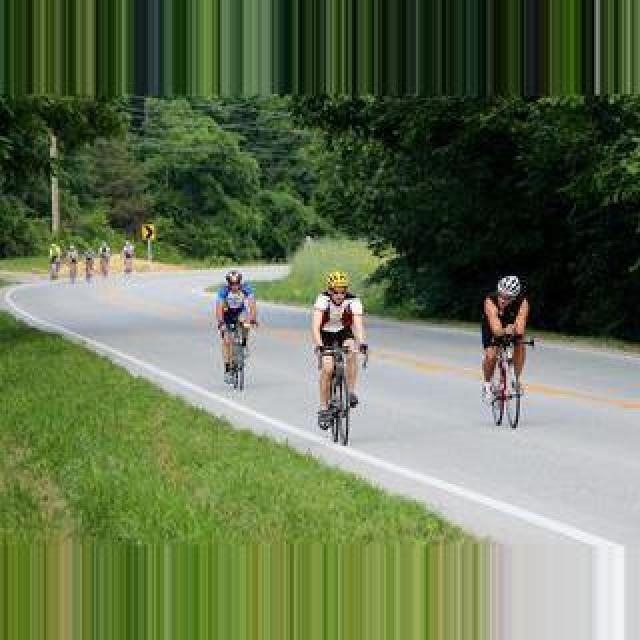MC-Bike: (310, 272, 368, 418), (480, 274, 534, 412), (214, 270, 256, 366)
Person: (316, 342, 366, 444), (486, 334, 530, 428), (224, 318, 254, 390)
